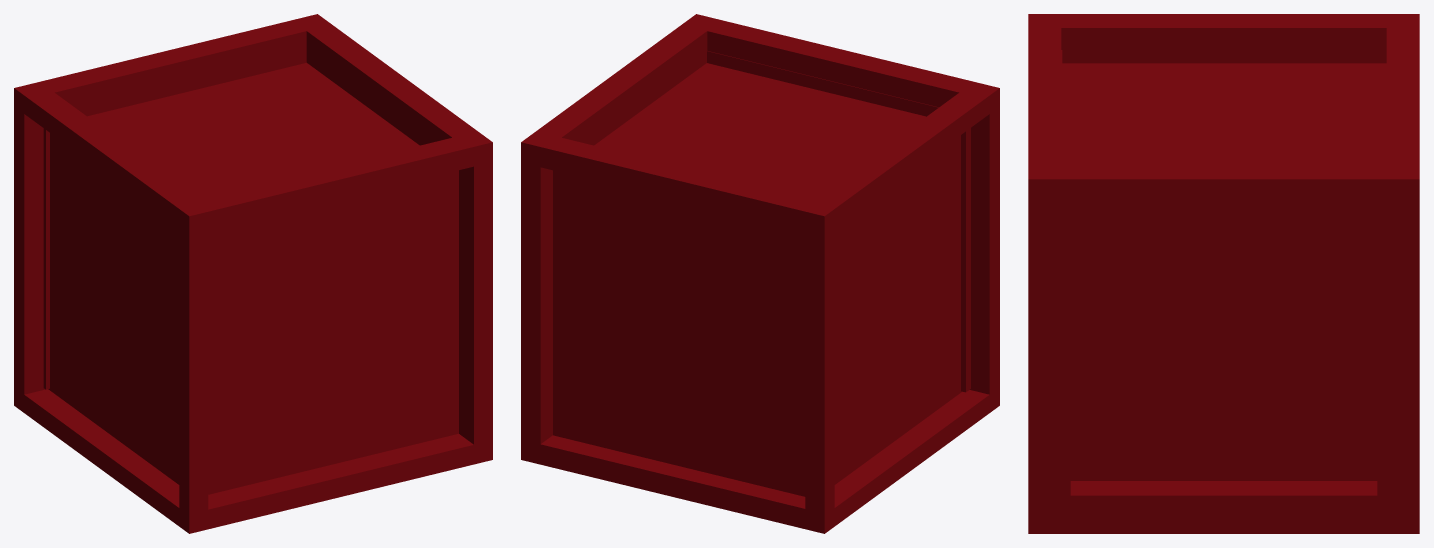
Rendered from black-box.glb.
The picture shows the model from 3 angles, left to right: view 1: azimuth 30°, elevation 25°; view 2: azimuth 150°, elevation 25°; view 3: azimuth 270°, elevation 25°; orthographic projection. The views are drawn at different scales.
Visible parts, largest first — view 1: Cube; view 2: Cube; view 3: Cube.
Boxes of the visible parts, bbox=[...] form: Cube: bbox=[14, 14, 492, 533]; Cube: bbox=[521, 14, 999, 533]; Cube: bbox=[1028, 14, 1419, 533].
Size of the model in its own units: 6.86 by 6.86 by 6.86.
